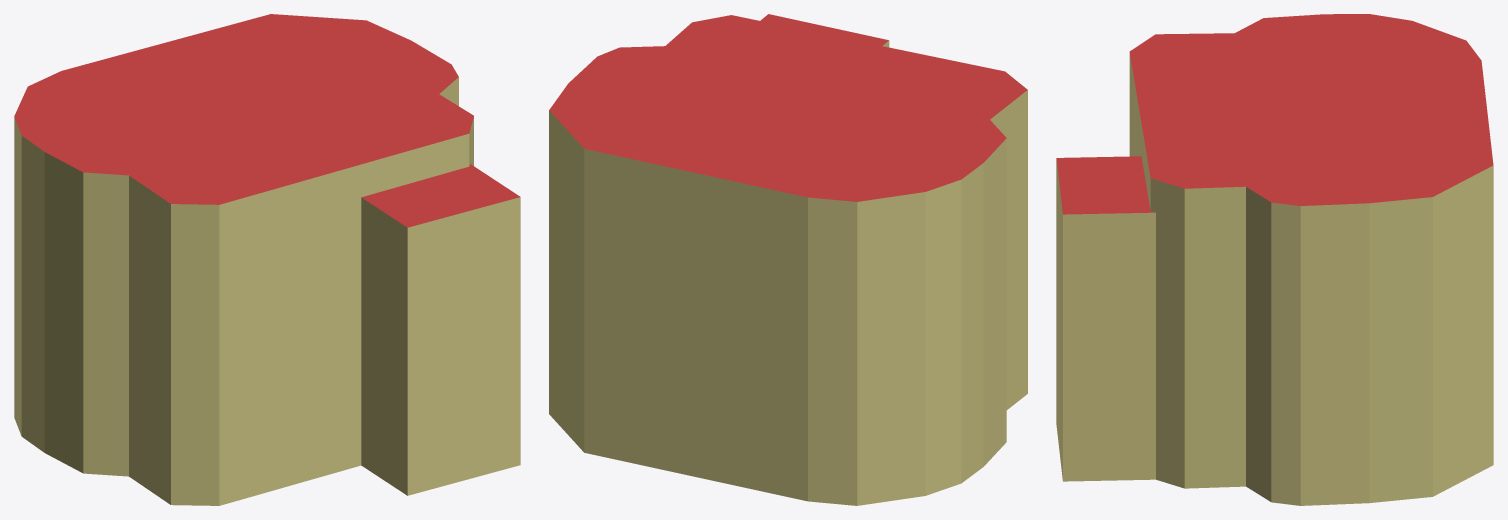
3 views of the same model, side by side, from view 1: azimuth 30°, elevation 25°; view 2: azimuth 150°, elevation 25°; view 3: azimuth 270°, elevation 25° (orthographic).
Bounding box in the file's own units: 8.32 × 8 × 6.06.
